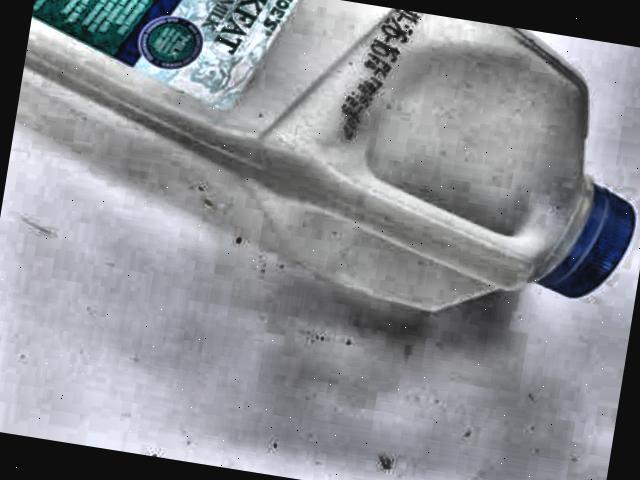Plastic: (0, 0, 640, 355)
